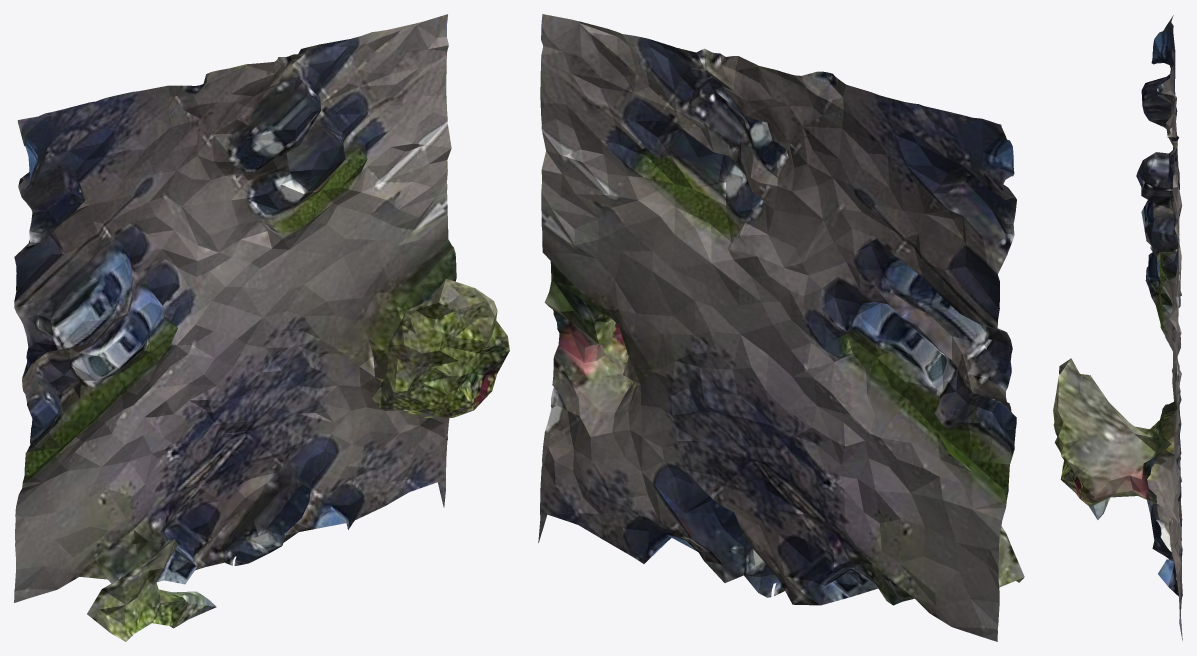
File: tile_3_8_0_tex.obj
The picture shows the model from 3 angles, left to right: view 1: azimuth 30°, elevation 25°; view 2: azimuth 150°, elevation 25°; view 3: azimuth 270°, elevation 25°; orthographic projection. The views are drawn at different scales.
Visible parts, largest first — view 1: obj_0; view 2: obj_0; view 3: obj_0.
Part boxes in pixels (x1,y1,x2,y2): obj_0: (14, 14, 509, 641); obj_0: (538, 14, 1024, 641); obj_0: (1053, 15, 1182, 640).
Size of the model in its own units: 20.05 by 22.17 by 5.88.
1 material, 1 textured.
